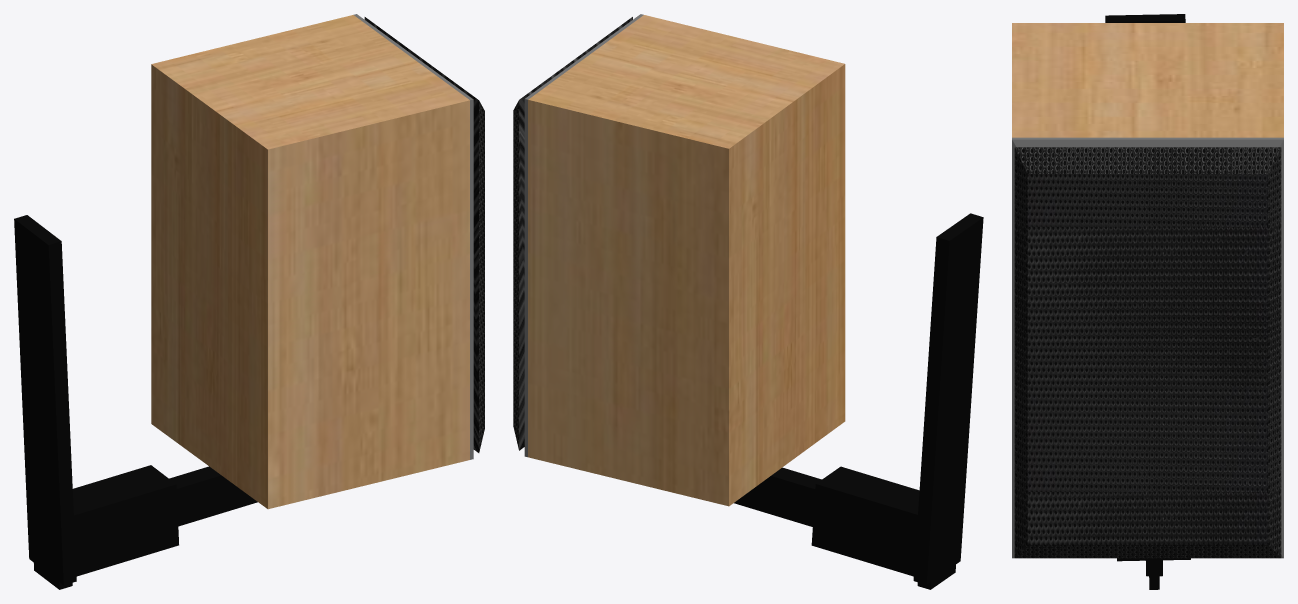
Rendered from parlante (1).fbx.
3 views of the same model, side by side, from view 1: azimuth 30°, elevation 25°; view 2: azimuth 150°, elevation 25°; view 3: azimuth 270°, elevation 25° (orthographic). The views are drawn at different scales.
Visible parts, largest first — view 1: Cube.001; view 2: Cube.001; view 3: Cube.001.
Boxes of the visible parts, x1,y1,x2,y2 form: Cube.001: (14, 14, 484, 589); Cube.001: (513, 14, 983, 589); Cube.001: (1012, 14, 1283, 589).
Size of the model in its own units: 19.94 by 20.65 by 10.
4 materials, 2 textured.
